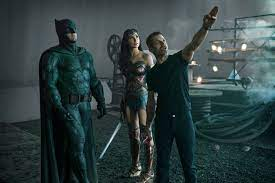Person: (39, 11, 111, 177), (144, 20, 202, 167), (105, 28, 151, 168)
